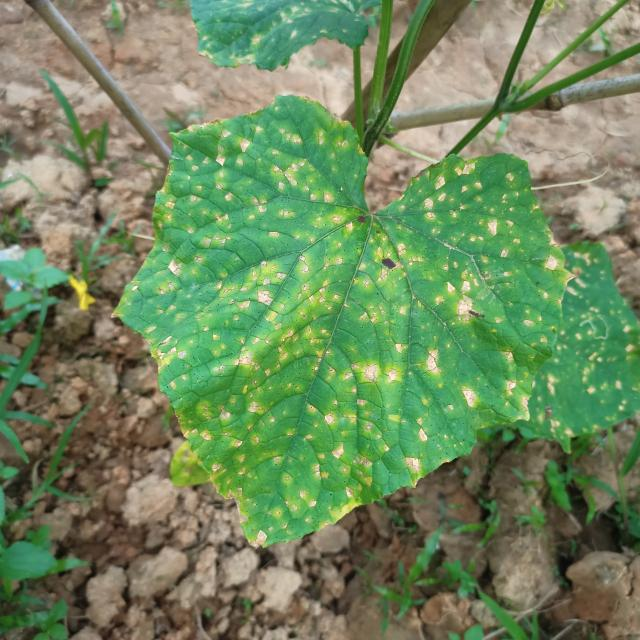disease_cucumber: (153, 125, 535, 534), (532, 252, 640, 437)
